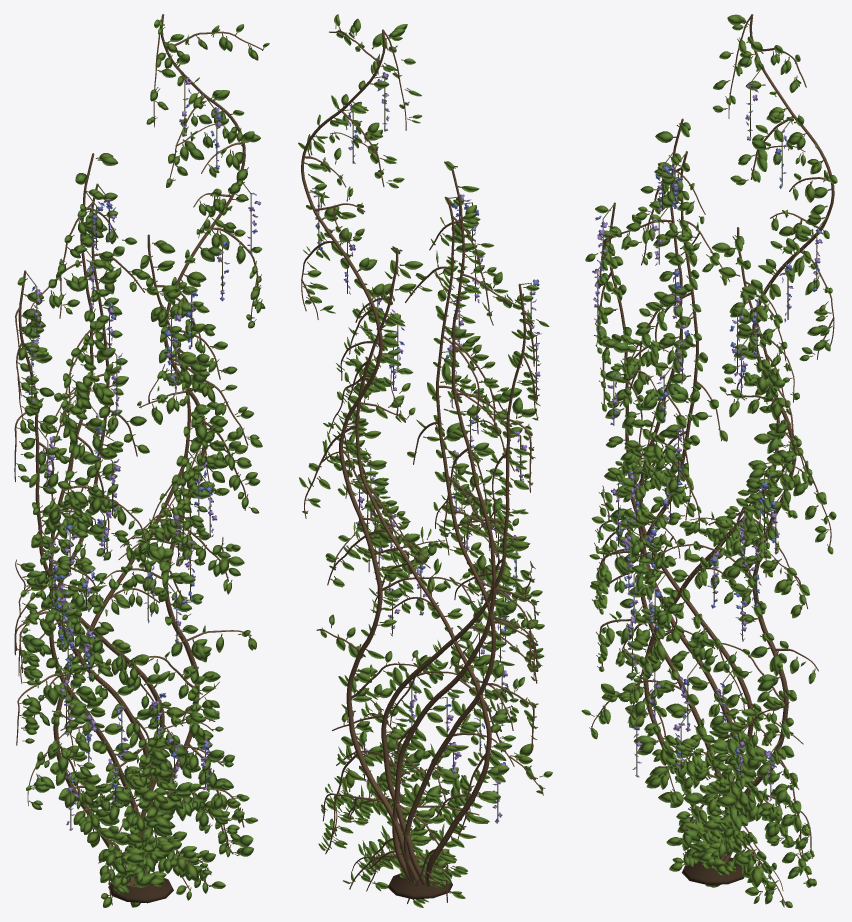
File: climber_wisteria_55.glb
The picture shows the model from 3 angles, left to right: view 1: azimuth 30°, elevation 25°; view 2: azimuth 150°, elevation 25°; view 3: azimuth 330°, elevation 25°; orthographic projection.
Parts seen in each view (by area): view 1: Sammel Pflanze, Sammel Holz, Sammel Putz; view 2: Sammel Pflanze, Sammel Holz, Sammel Putz; view 3: Sammel Pflanze, Sammel Holz, Sammel Putz.
Boxes of the visible parts, <box> form: Sammel Pflanze: <box>17,19,269,907</box>; Sammel Holz: <box>14,14,262,905</box>; Sammel Putz: <box>16,24,264,903</box>; Sammel Pflanze: <box>298,14,552,907</box>; Sammel Holz: <box>301,29,543,903</box>; Sammel Putz: <box>302,24,545,899</box>; Sammel Pflanze: <box>581,14,837,907</box>; Sammel Holz: <box>590,14,834,904</box>; Sammel Putz: <box>589,21,832,901</box>.
Size of the model in its own units: 1.46 by 5 by 0.3935.
